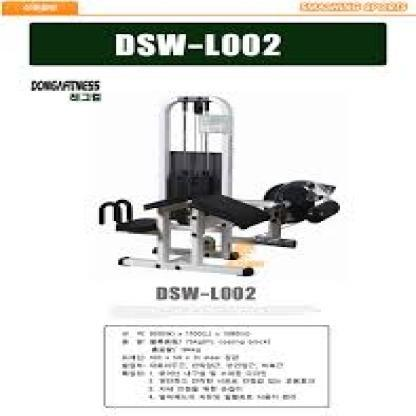reg curl machine: (94, 92, 343, 277)
